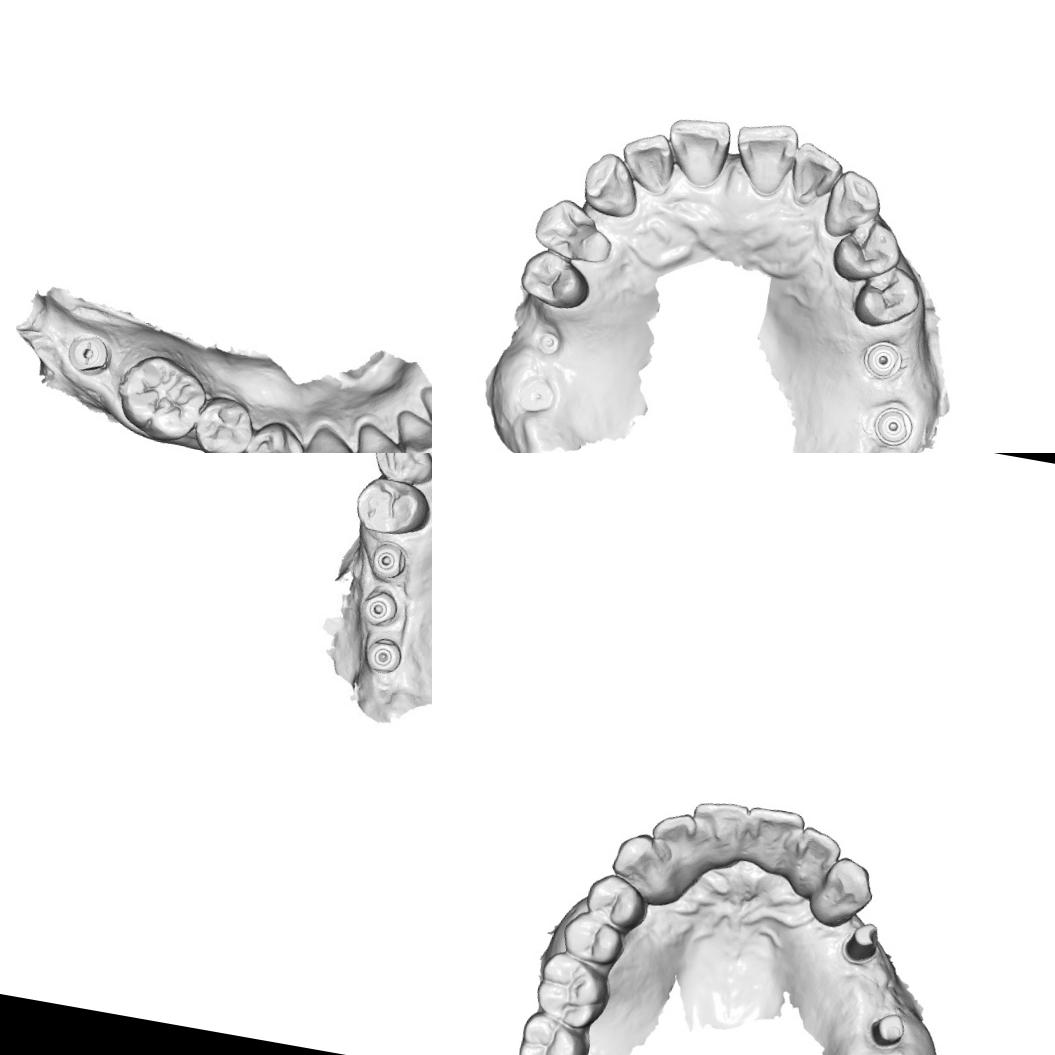abutment: (839, 917, 884, 967), (866, 1008, 908, 1051)
canine: (807, 851, 879, 932), (819, 164, 888, 246), (576, 146, 645, 222), (608, 827, 669, 888), (366, 453, 432, 490), (297, 421, 366, 453)
implant: (858, 333, 910, 385), (356, 584, 404, 632), (871, 400, 917, 450), (363, 628, 407, 678), (512, 372, 560, 417), (368, 538, 408, 580), (530, 324, 566, 360)
implant_minus: (62, 328, 112, 378)
incisor: (726, 114, 801, 202), (658, 109, 735, 193), (736, 801, 808, 880), (684, 796, 754, 868), (782, 137, 848, 212), (614, 125, 680, 198), (788, 824, 844, 900), (644, 805, 700, 876), (346, 417, 417, 453), (385, 406, 432, 453)
molar: (111, 350, 211, 444), (530, 946, 615, 1034), (512, 1007, 594, 1055)
premolar: (528, 191, 618, 268), (827, 210, 908, 290), (848, 259, 927, 336), (350, 470, 432, 544), (511, 243, 596, 314), (581, 869, 652, 933), (190, 392, 261, 453), (557, 907, 628, 968), (245, 414, 311, 453)
